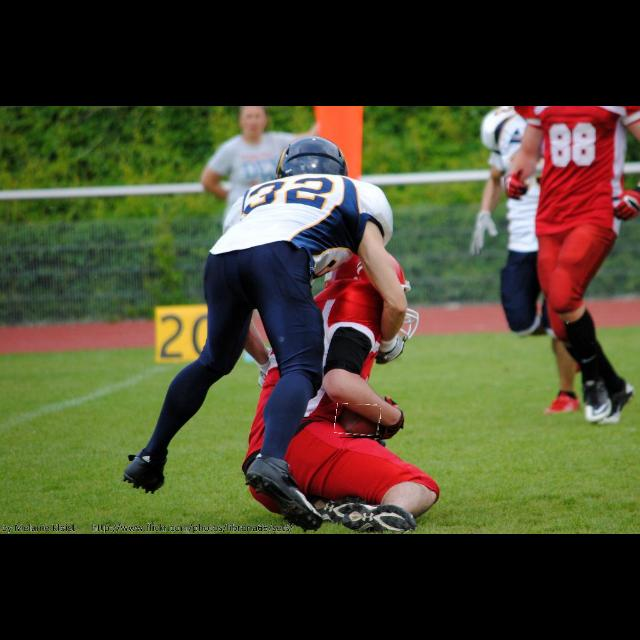Football: (336, 404, 380, 438)
